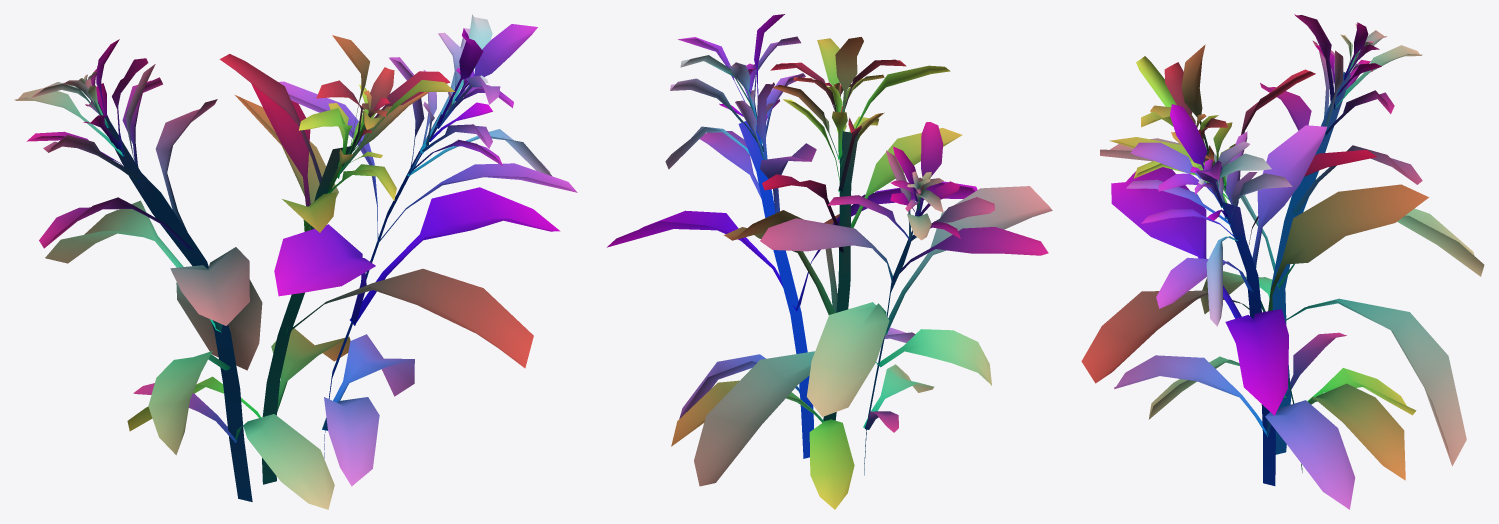
Rendered from Sage_ve3gbfoja_Mid_ve3gbfoja_VarC_LOD1.fbx.
3 renders of one model, left to right at view 1: azimuth 30°, elevation 25°; view 2: azimuth 150°, elevation 25°; view 3: azimuth 270°, elevation 25°, orthographic. The views are drawn at different scales.
Parts seen in each view (by area): view 1: _lj39_VarC_LOD3; view 2: _lj39_VarC_LOD3; view 3: _lj39_VarC_LOD3.
Boxes of the visible parts, left/top/right/bottom form: _lj39_VarC_LOD3: left=14, top=14, right=577, bottom=509; _lj39_VarC_LOD3: left=607, top=14, right=1052, bottom=509; _lj39_VarC_LOD3: left=1081, top=14, right=1484, bottom=509.
Bounding box in the file's own units: 79.01 × 70.07 × 59.57.
